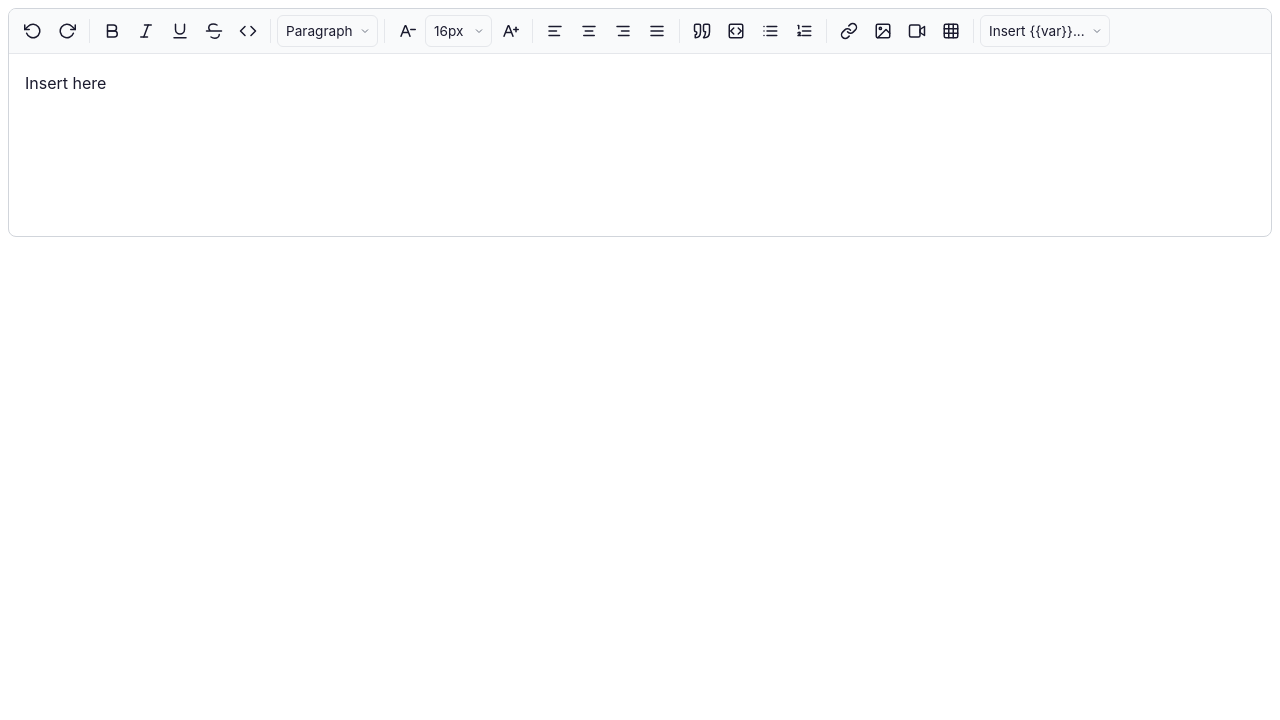
it: RichTextEditor insert tools › opens the video dialog
The image size is (1280, 720).
What coordinates should you click on to do the following:
click the button titled "Insert Video"
I would click on:
 (917, 31)
Its box is [901,15,933,47].
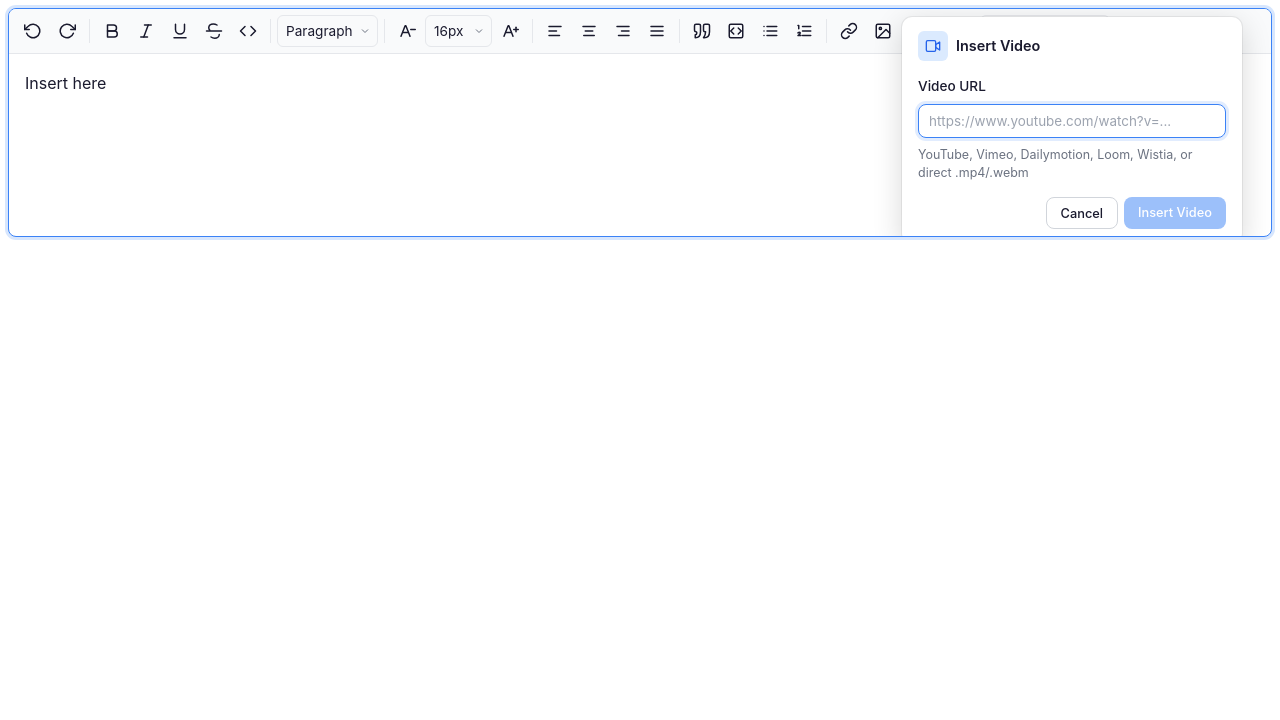
expect the dialog shows "Insert Video": met, box [956,37,1040,54]
